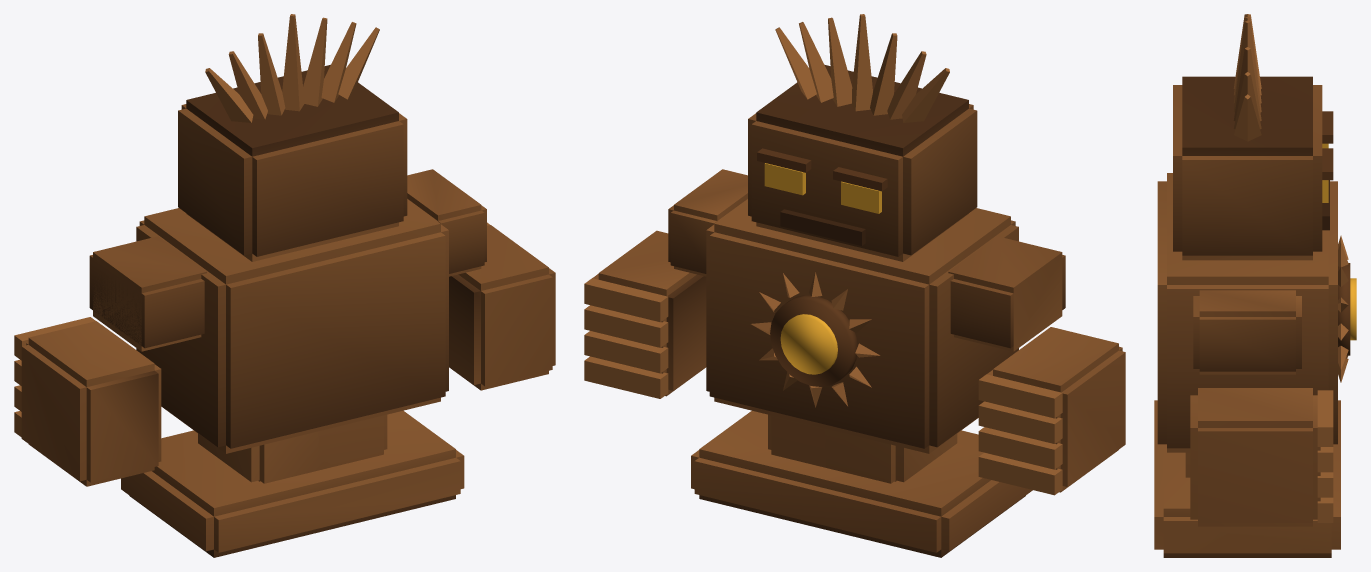
The model's file is golem.glb.
The picture shows the model from 3 angles, left to right: view 1: azimuth 30°, elevation 25°; view 2: azimuth 150°, elevation 25°; view 3: azimuth 270°, elevation 25°; orthographic projection.
Visible parts, largest first — view 1: golem; view 2: golem; view 3: golem.
Part boxes in pixels (x1,y1,x2,y2): golem: [14, 14, 555, 557]; golem: [584, 14, 1125, 557]; golem: [1154, 14, 1356, 557].
Size of the model in its own units: 3.5 by 3.39 by 1.3.
